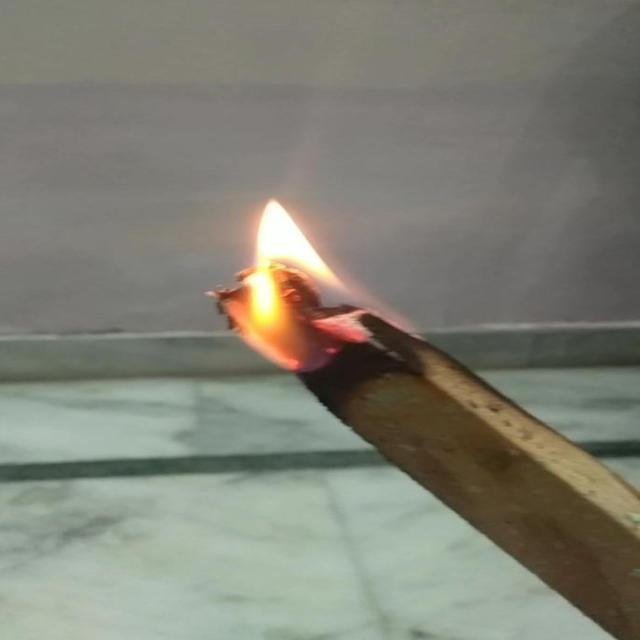smoke: (198, 184, 404, 370)
